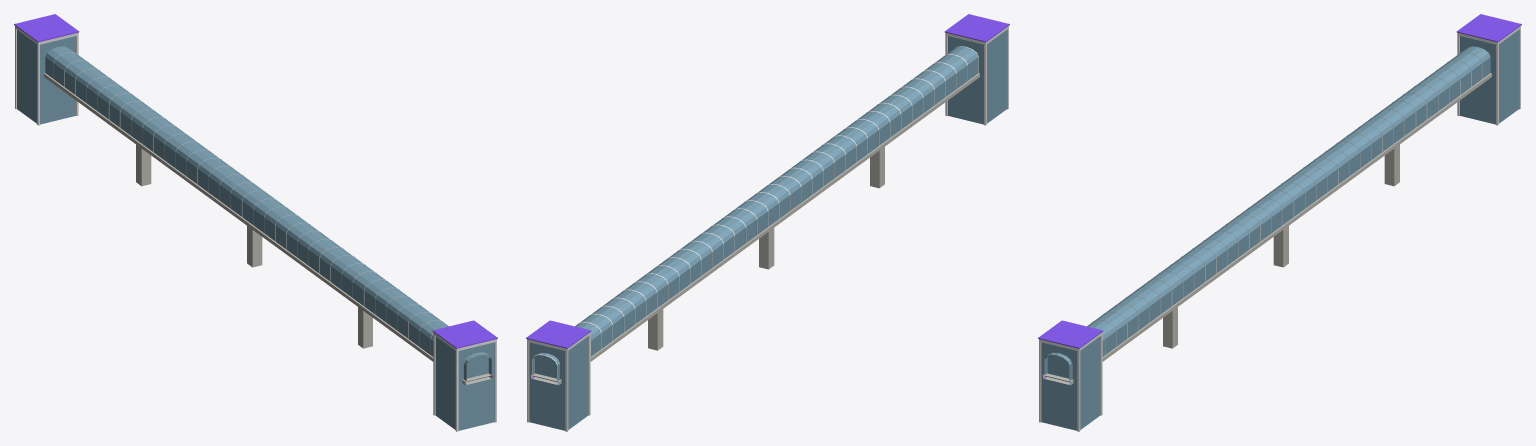
File: skybridge.glb
3 renders of one model, left to right at view 1: azimuth 30°, elevation 25°; view 2: azimuth 150°, elevation 25°; view 3: azimuth 330°, elevation 25°, orthographic.
Parts seen in each view (by area): view 1: skybridge_lod0; view 2: skybridge_lod0; view 3: skybridge_lod0.
Boxes of the visible parts, left/top/right/bottom form: skybridge_lod0: left=14, top=14, right=497, bottom=431; skybridge_lod0: left=526, top=14, right=1009, bottom=431; skybridge_lod0: left=1038, top=14, right=1521, bottom=431.
Size of what is drawn, in the model's own units: 8.6 by 16.8 by 161.
